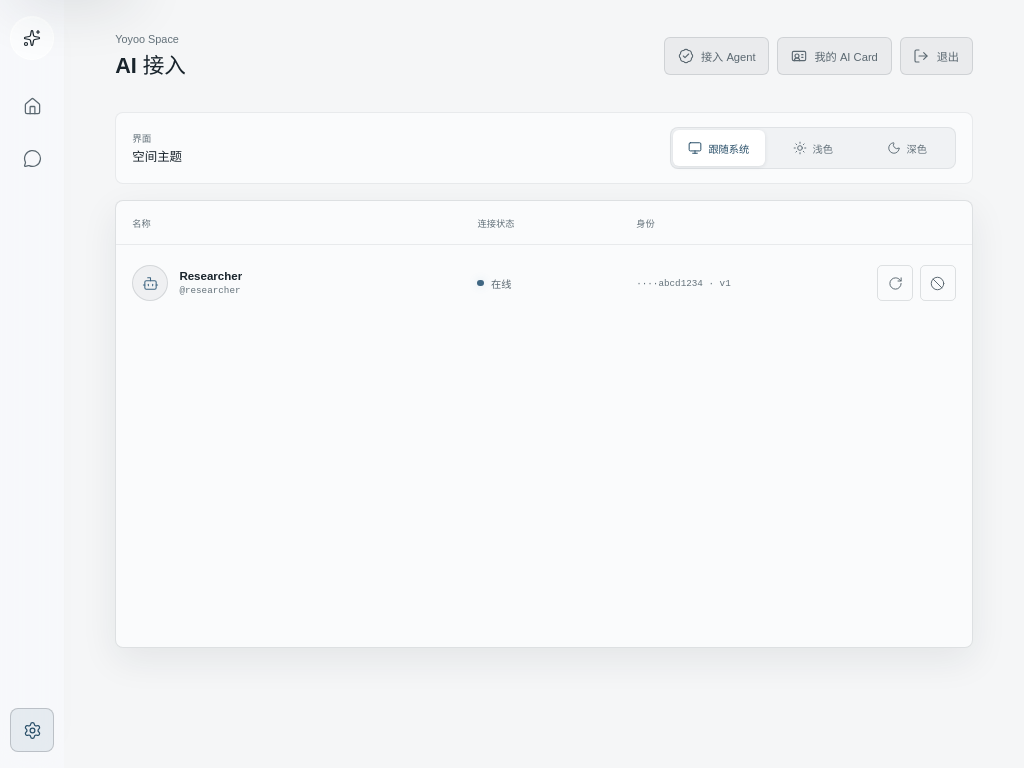
AgentDirectory › requires inline confirmation for credential rotation and revocation
The width and height of the screenshot is (1024, 768).
Expected: the text "Researcher" is shown, [179,270,242,282]
Click the button named "轮换 Researcher 的凭据" at (895, 283), box [877,265,913,301]
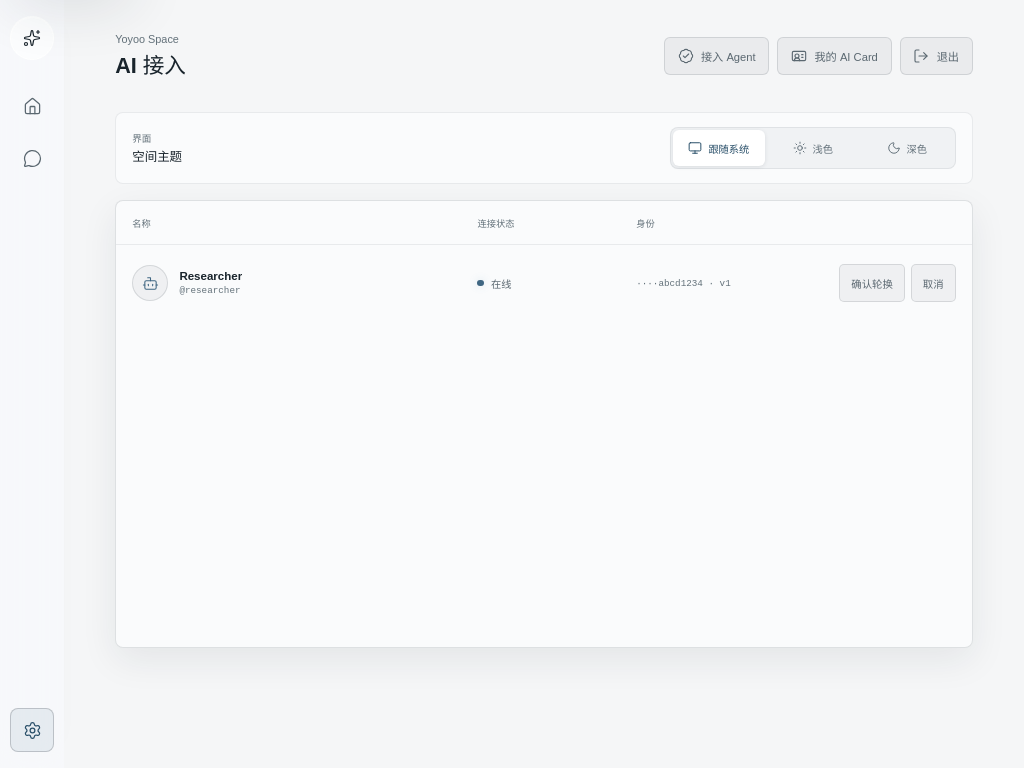
Click the button "确认轮换" at (872, 283), box [839,264,905,302]
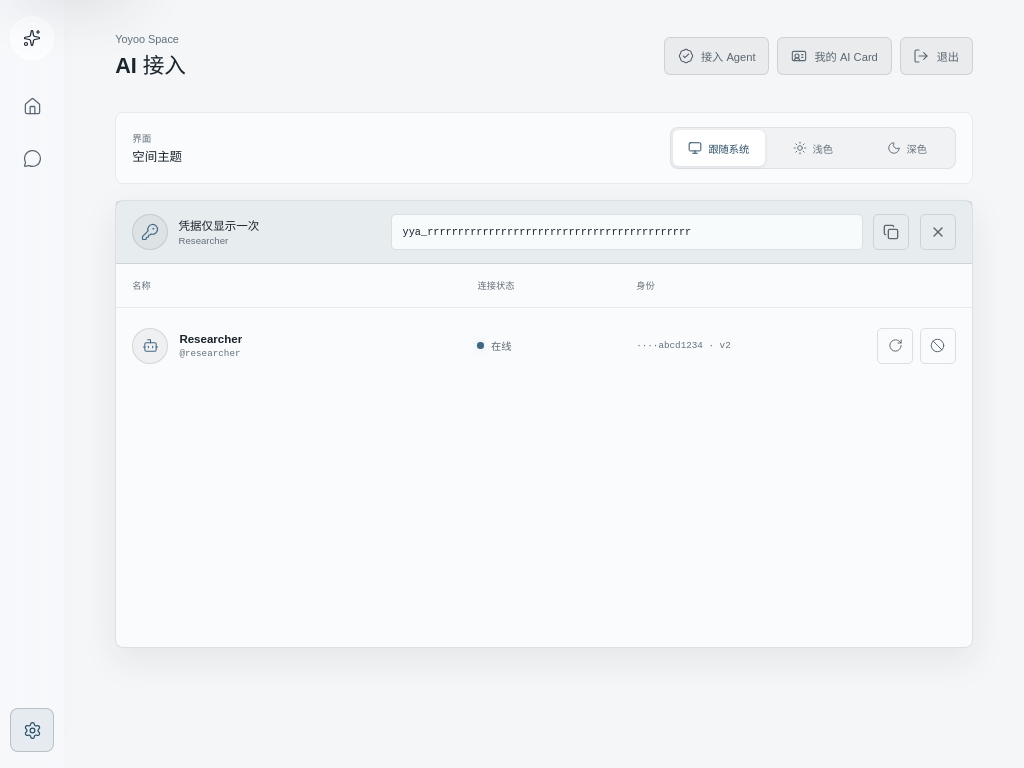
Click the button named "撤销 Researcher 的凭据" at (938, 346), box [920,328,956,364]
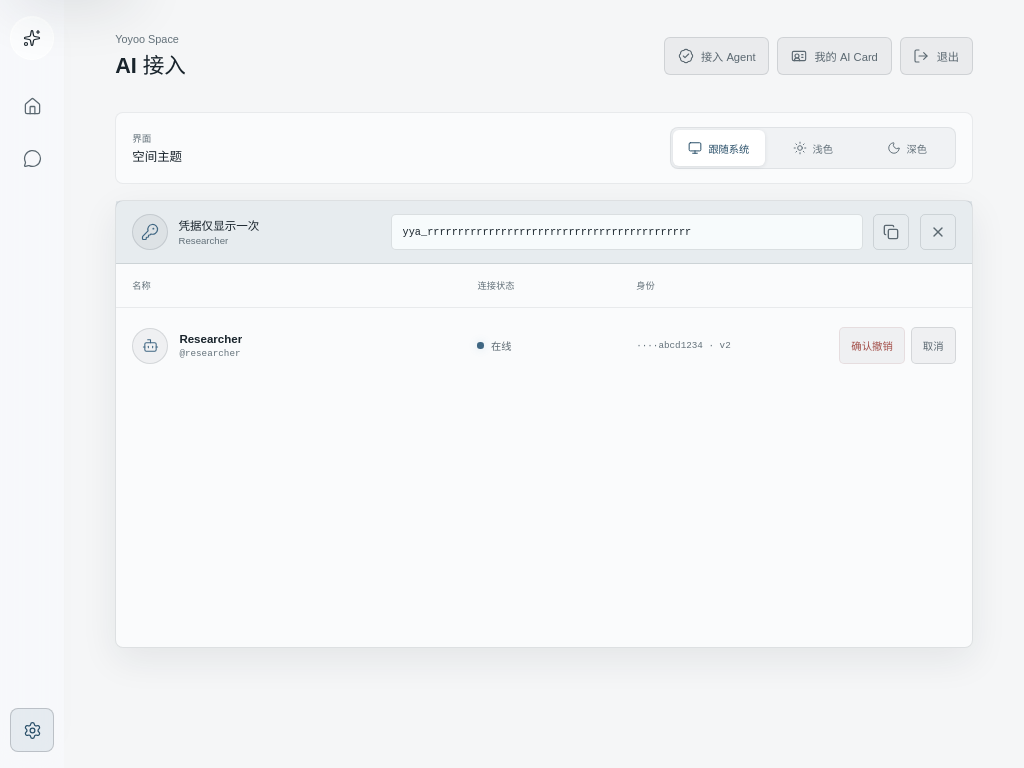
Click the button "确认撤销" at (872, 346), box [839,327,905,364]
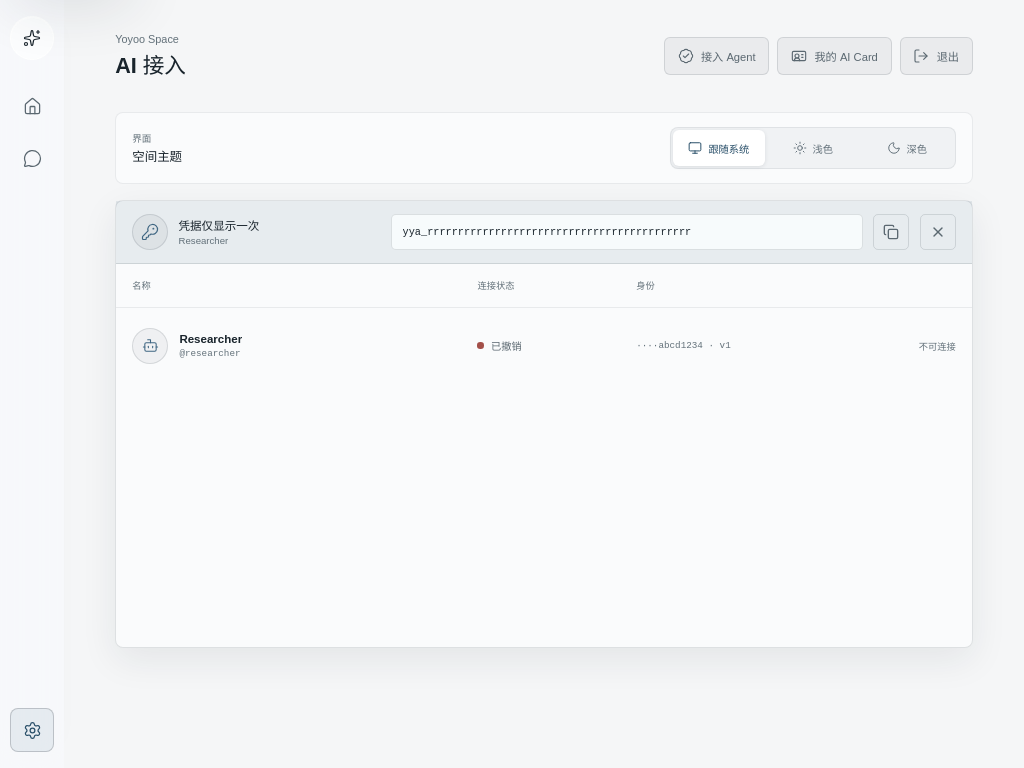
Expected: the text "已撤销" is shown, [478,341,522,352]
